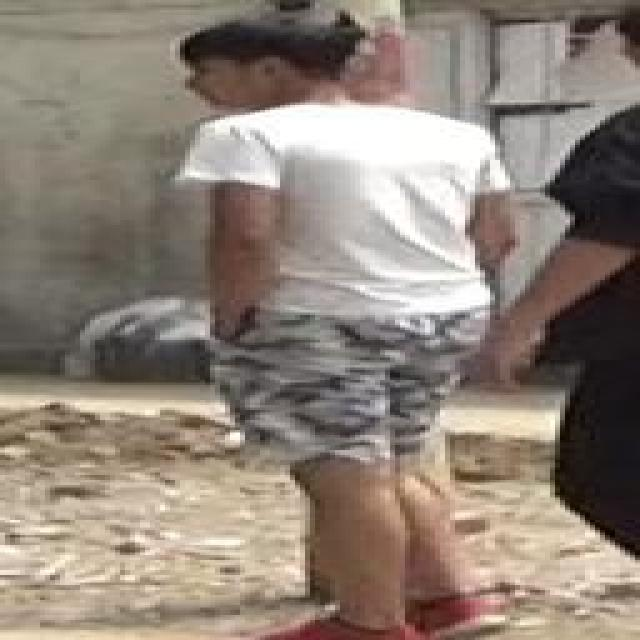adult: (144, 18, 534, 640)
